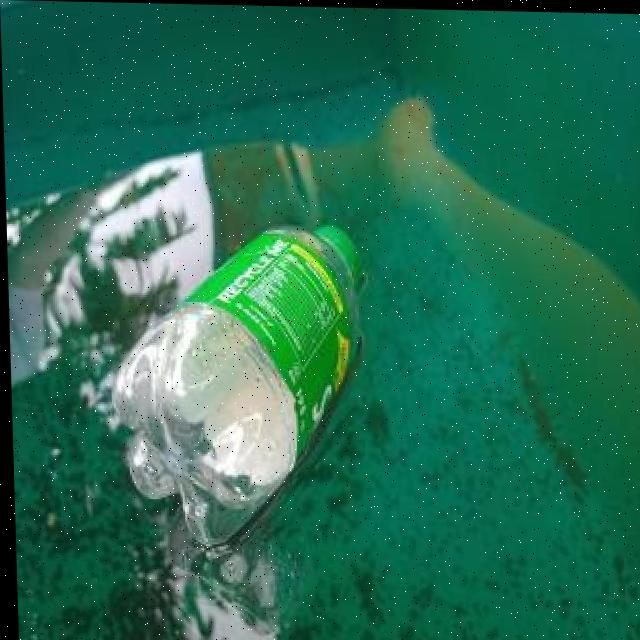bottle: (106, 211, 376, 555)
